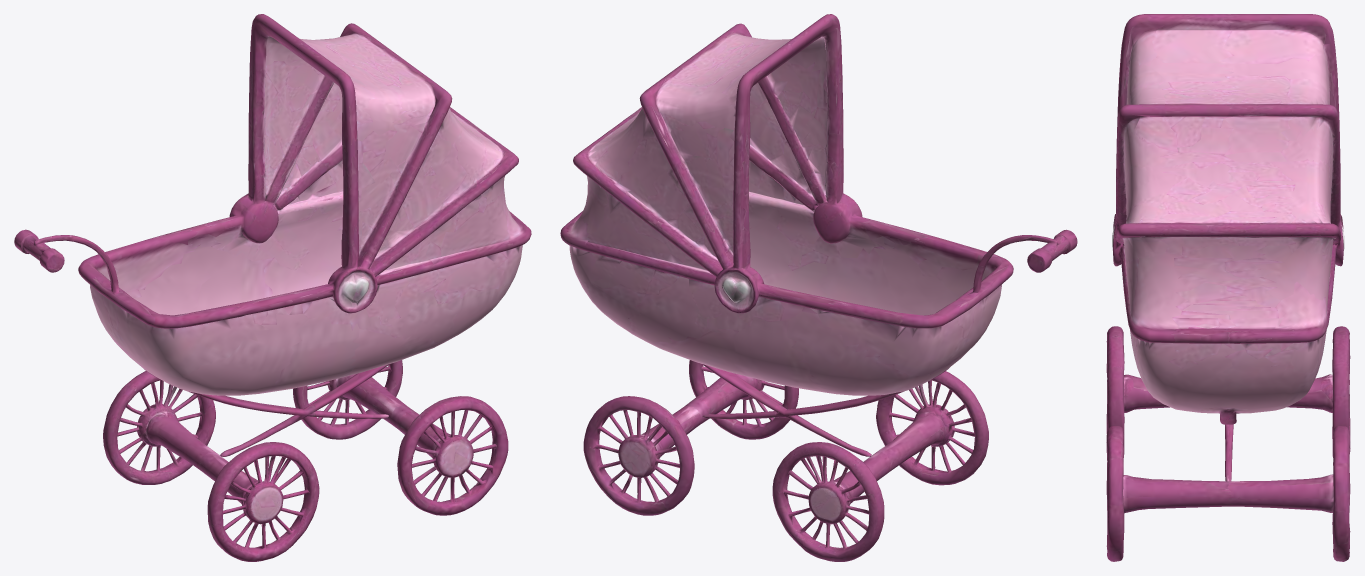
3 renders of one model, left to right at view 1: azimuth 30°, elevation 25°; view 2: azimuth 150°, elevation 25°; view 3: azimuth 270°, elevation 25°, orthographic. The views are drawn at different scales.
Size of the model in its own units: 1.9 by 1.77 by 0.7979.
1 material, 1 textured.
